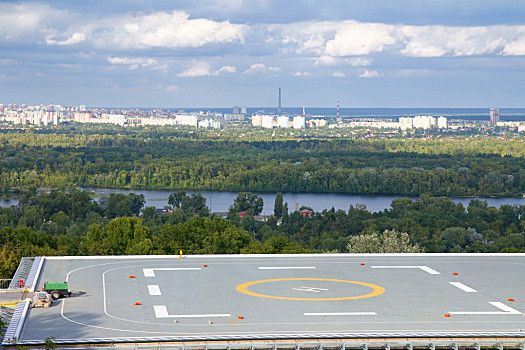Apron: (235, 277, 386, 302)
